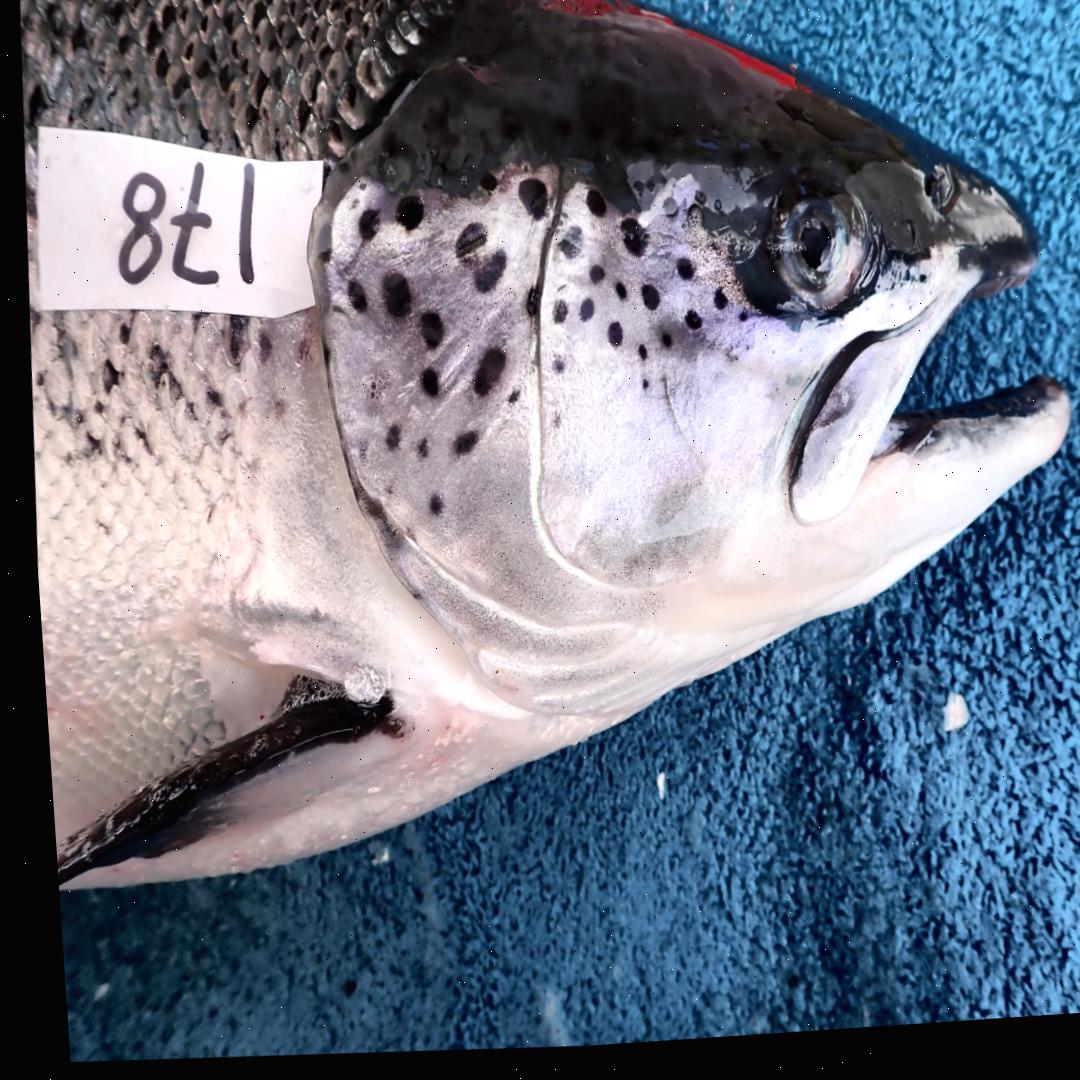spot: (466, 353, 498, 401), (468, 256, 501, 298), (513, 185, 544, 226), (378, 279, 405, 323), (450, 227, 481, 263), (304, 221, 327, 268), (615, 225, 642, 263), (551, 231, 578, 267), (390, 202, 419, 234), (414, 316, 436, 354), (353, 211, 375, 247), (445, 436, 471, 463), (343, 285, 361, 317), (581, 196, 601, 222), (376, 428, 394, 455), (636, 292, 654, 318), (415, 372, 431, 401), (629, 377, 644, 407), (601, 328, 617, 354), (519, 294, 533, 323), (546, 305, 561, 332), (572, 305, 588, 328), (407, 443, 423, 466), (671, 268, 689, 288), (707, 296, 722, 320), (678, 318, 696, 338), (539, 414, 554, 438), (657, 206, 674, 227), (419, 498, 435, 519), (545, 361, 560, 382), (583, 272, 598, 290), (350, 444, 359, 470), (609, 289, 621, 307), (501, 394, 512, 412), (654, 341, 665, 356), (630, 351, 639, 368), (731, 320, 742, 331)
